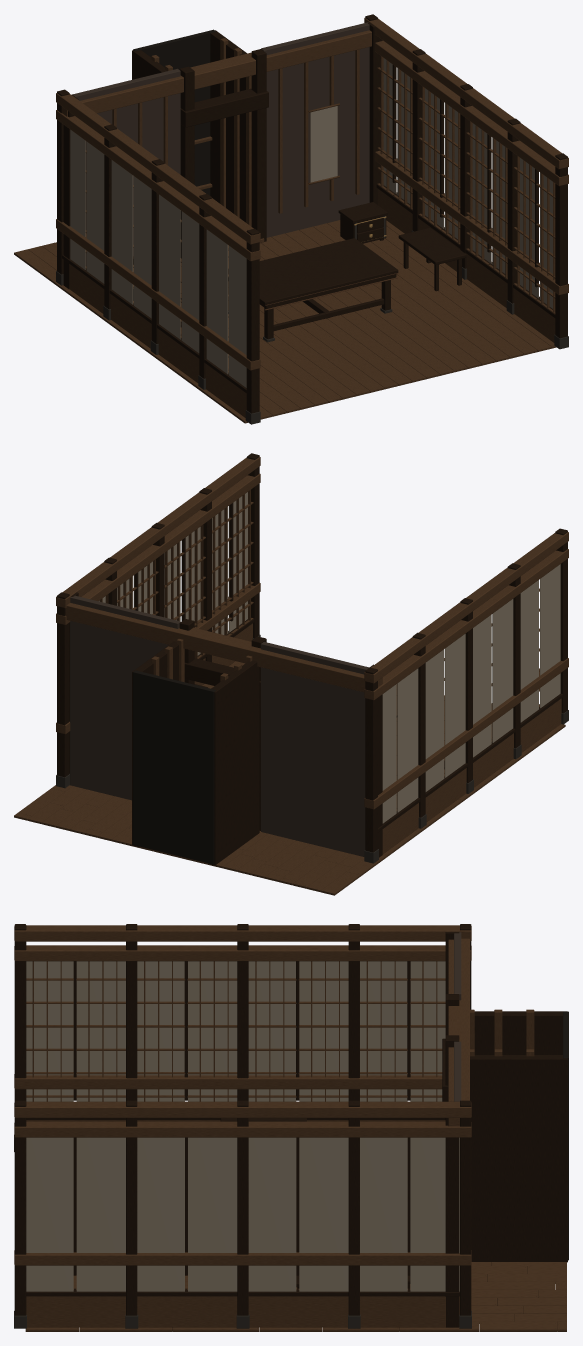
Rendered from war-room-m1.glb.
3 renders of one model, top to bottom at view 1: azimuth 30°, elevation 25°; view 2: azimuth 150°, elevation 25°; view 3: azimuth 270°, elevation 25°, orthographic. The views are drawn at different scales.
Visible parts, largest first — view 1: Back plaster panel.001, Table support slab, Back room tie beam, Back plaster panel, Side wall lower wood, Side tie beam.002, Side tie beam.005, Recess side wall.001, Side tie beam.001, Side wall lower wood.001, Side tie beam.004, Vestibule rear wall (+57 smaller); view 2: Back plaster panel, Vestibule rear wall, Back plaster panel.001, Recess side wall, Back room tie beam, Side wall lower wood, Side tie beam.002, Side tie beam.005, Side tie beam.001, Side tie beam.004, Shoji paper.006, Shoji paper.002 (+25 smaller); view 3: Recess side wall.001, Side wall lower wood.001, Side tie beam.005, Side tie beam.004, Side tie beam.002, Side tie beam.001, Shoji paper.013, Shoji paper.009, Shoji paper.011, Shoji paper.012, Shoji paper.008, Shoji paper.010 (+33 smaller).
Part boxes in pixels (x1,y1,x2,y2): Back plaster panel.001: [261, 22, 369, 237]; Table support slab: [228, 238, 398, 305]; Back room tie beam: [62, 30, 371, 116]; Back plaster panel: [71, 68, 180, 265]; Side wall lower wood: [63, 259, 246, 417]; Side tie beam.002: [56, 93, 260, 244]; Side tie beam.005: [364, 18, 568, 169]; Recess side wall.001: [210, 30, 246, 222]; Side tie beam.001: [56, 110, 260, 261]; Side wall lower wood.001: [378, 189, 555, 342]; Side tie beam.004: [375, 40, 568, 186]; Vestibule rear wall: [133, 29, 215, 195]; Back plaster panel: [261, 642, 368, 856]; Vestibule rear wall: [133, 670, 215, 864]; Back plaster panel.001: [70, 595, 180, 800]; Recess side wall: [208, 660, 259, 865]; Back room tie beam: [65, 603, 382, 692]; Side wall lower wood: [382, 698, 561, 854]; Side tie beam.002: [364, 532, 568, 683]; Side tie beam.005: [56, 456, 260, 608]; Side tie beam.001: [364, 549, 568, 700]; Side tie beam.004: [56, 473, 260, 624]; Shoji paper.006: [397, 668, 418, 812]; Shoji paper.002: [492, 599, 513, 742]; Recess side wall.001: [470, 1055, 567, 1262]; Side wall lower wood.001: [26, 1296, 459, 1327]; Side tie beam.005: [14, 1101, 471, 1117]; Side tie beam.004: [14, 1121, 471, 1137]; Side tie beam.002: [14, 925, 471, 941]; Side tie beam.001: [14, 945, 471, 961]; Shoji paper.013: [299, 1137, 348, 1291]; Shoji paper.009: [76, 1137, 125, 1291]; Shoji paper.011: [188, 1137, 237, 1291]; Shoji paper.012: [248, 1137, 296, 1291]; Shoji paper.008: [26, 1137, 73, 1291]; Shoji paper.010: [137, 1137, 184, 1291].
Size of the model in its own units: 4.37 by 2.51 by 5.59.
Materials: 9 (2 with a texture image).
